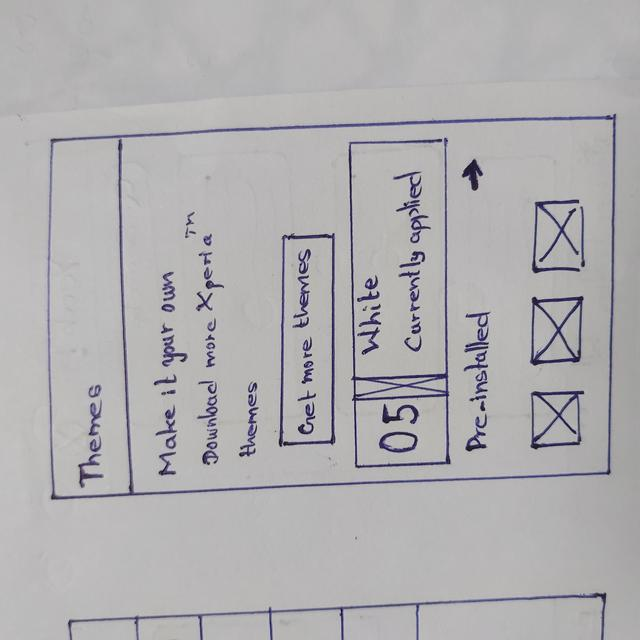AppBar: (42, 137, 131, 497)
Button: (278, 233, 340, 446)
Icon: (463, 159, 485, 193)
Image: (529, 298, 585, 365), (540, 202, 585, 272), (532, 390, 581, 446), (352, 378, 447, 396)
Layout: (349, 139, 452, 464)
MainLayout: (42, 136, 614, 481)
TextView: (184, 211, 224, 475), (153, 270, 183, 481), (394, 171, 425, 355), (461, 309, 492, 459), (373, 403, 428, 457), (77, 384, 106, 486), (359, 278, 383, 351), (240, 381, 261, 460)
